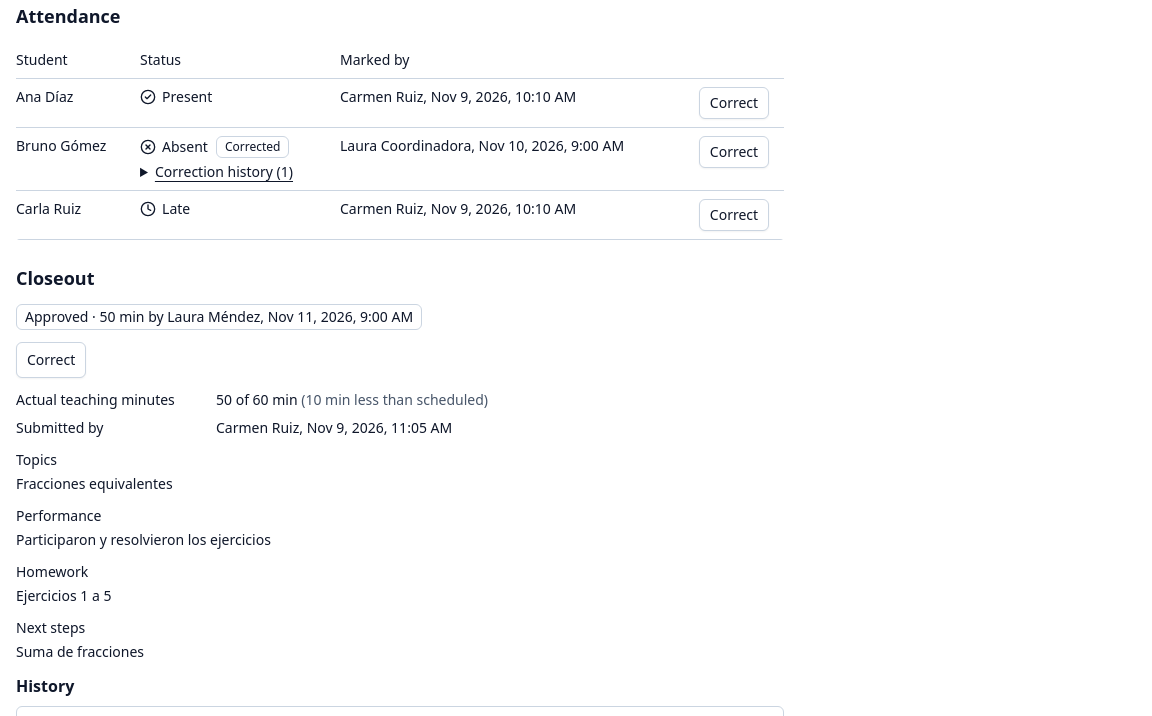
Test: the correction dialog (#78 G1) › says that correcting an approved closeout creates a new approval
The width and height of the screenshot is (1152, 716).
(page scrolled)
Click the button "Correct" below "Closeout": (51, 360) x1=16 y1=342 x2=86 y2=378
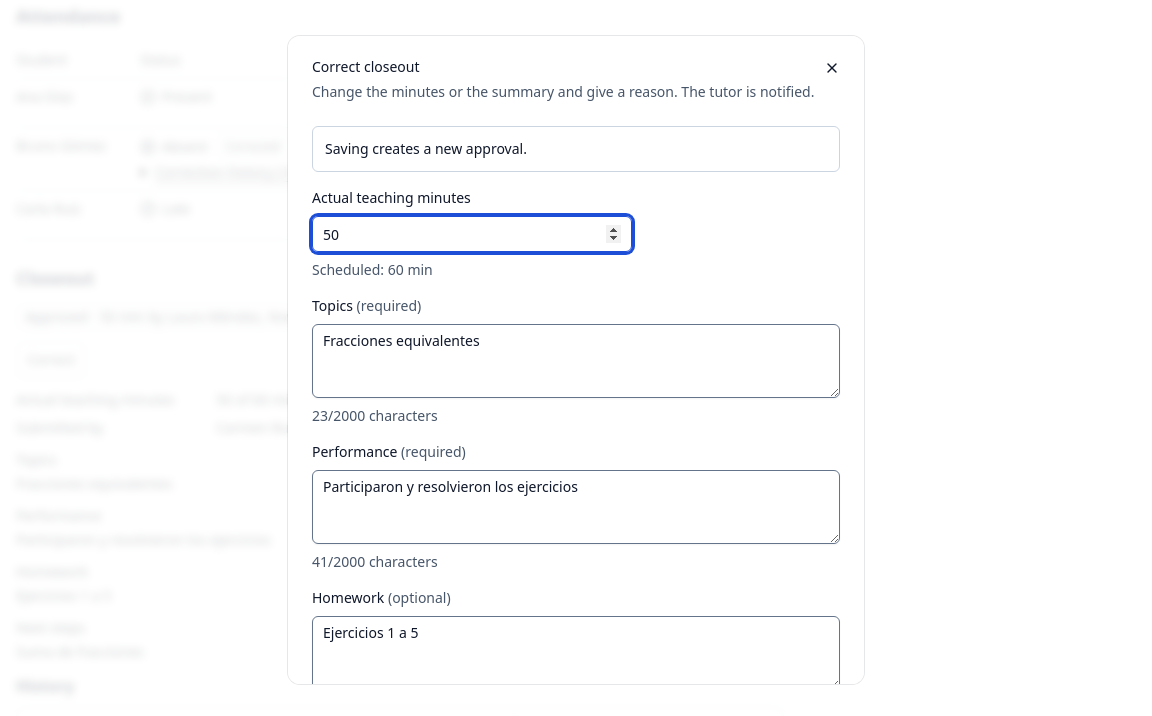
Now the dialog shows "Saving creates a new approval.", box x1=325 y1=139 x2=527 y2=158
